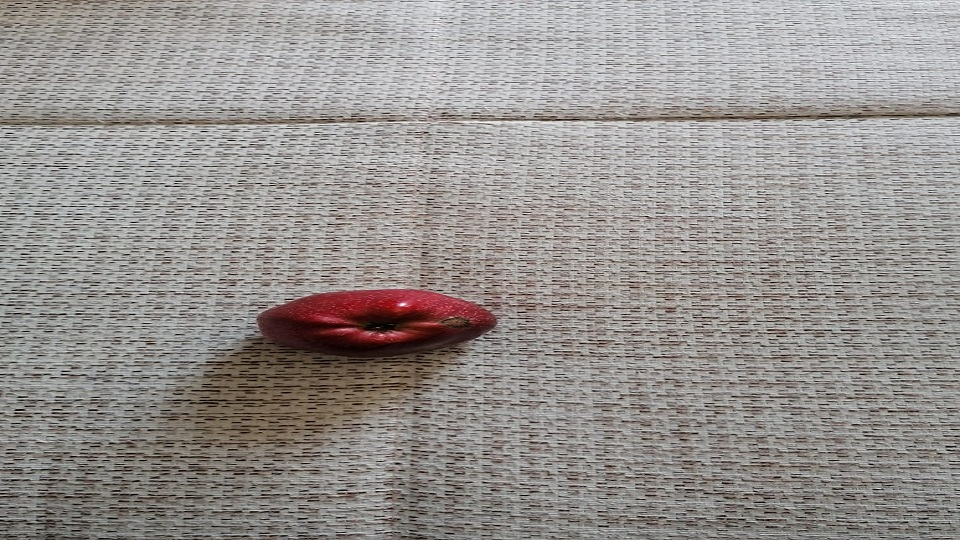elma: (255, 287, 501, 360)
